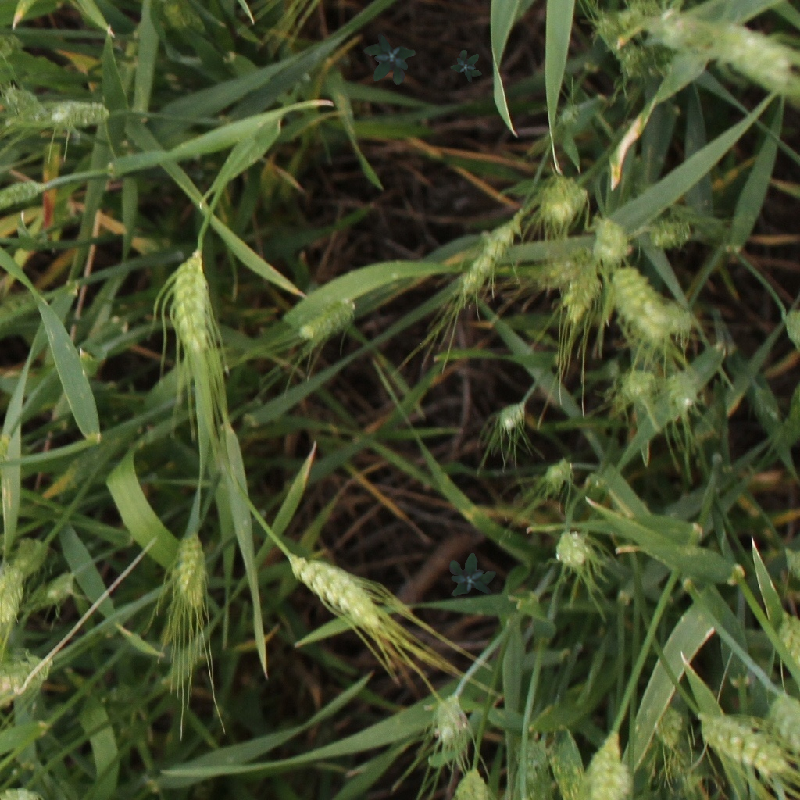spikelet: (285, 550, 388, 636), (698, 710, 791, 782), (166, 247, 217, 358), (607, 262, 676, 344), (455, 218, 519, 299), (718, 27, 797, 88), (578, 729, 635, 799), (167, 529, 215, 611), (592, 1, 666, 54), (291, 291, 359, 347), (533, 171, 591, 230), (1, 646, 54, 708), (527, 244, 591, 293), (513, 734, 558, 799), (557, 262, 603, 325), (21, 567, 80, 616), (42, 95, 112, 134), (614, 40, 677, 83), (588, 212, 635, 269), (1, 81, 49, 136), (632, 213, 696, 254), (426, 691, 471, 748), (3, 533, 53, 581), (766, 689, 800, 759), (649, 295, 699, 341), (660, 365, 704, 415), (551, 526, 597, 573), (613, 363, 661, 408), (650, 701, 690, 753), (1, 556, 28, 632), (773, 611, 800, 684), (536, 452, 579, 497), (1, 176, 48, 215), (489, 397, 531, 438), (158, 1, 207, 36), (448, 766, 496, 800), (778, 296, 800, 357), (1, 784, 50, 800)
weed: (352, 23, 425, 96), (440, 546, 503, 608), (446, 44, 489, 88)
